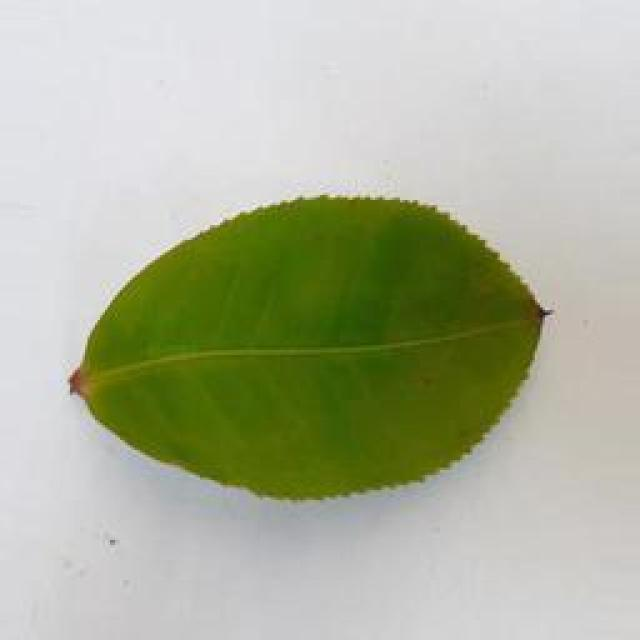Healthy: (70, 189, 549, 500)
